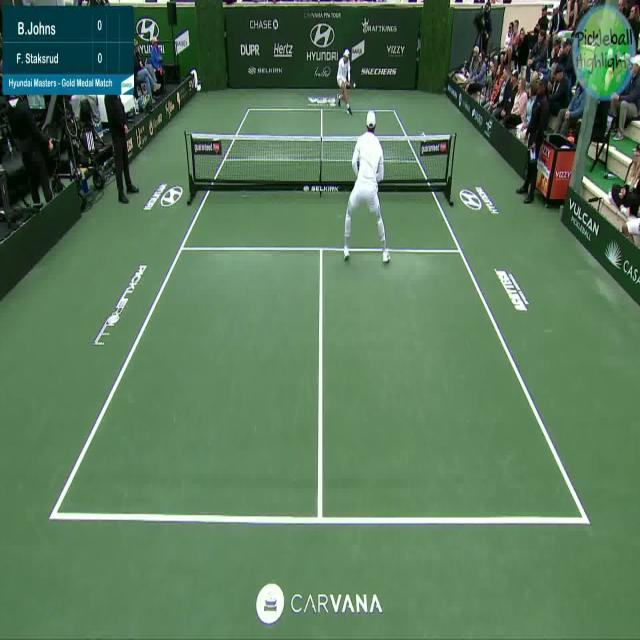ball: (353, 80, 356, 90)
